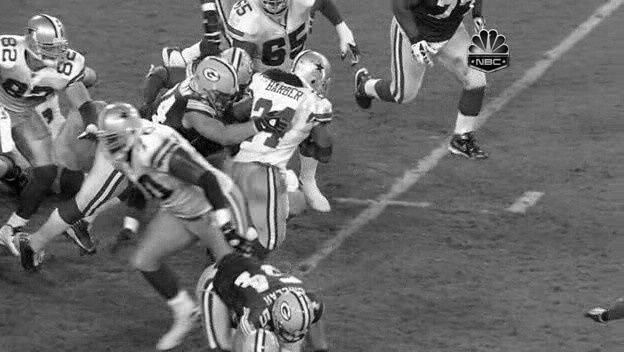person: (295, 50, 329, 93), (294, 50, 328, 93), (296, 50, 330, 93), (295, 49, 329, 92), (295, 51, 329, 94)
target_negative: (93, 311, 478, 348), (572, 22, 610, 94), (25, 273, 149, 286), (595, 5, 614, 54), (10, 115, 20, 164), (413, 192, 416, 265)
